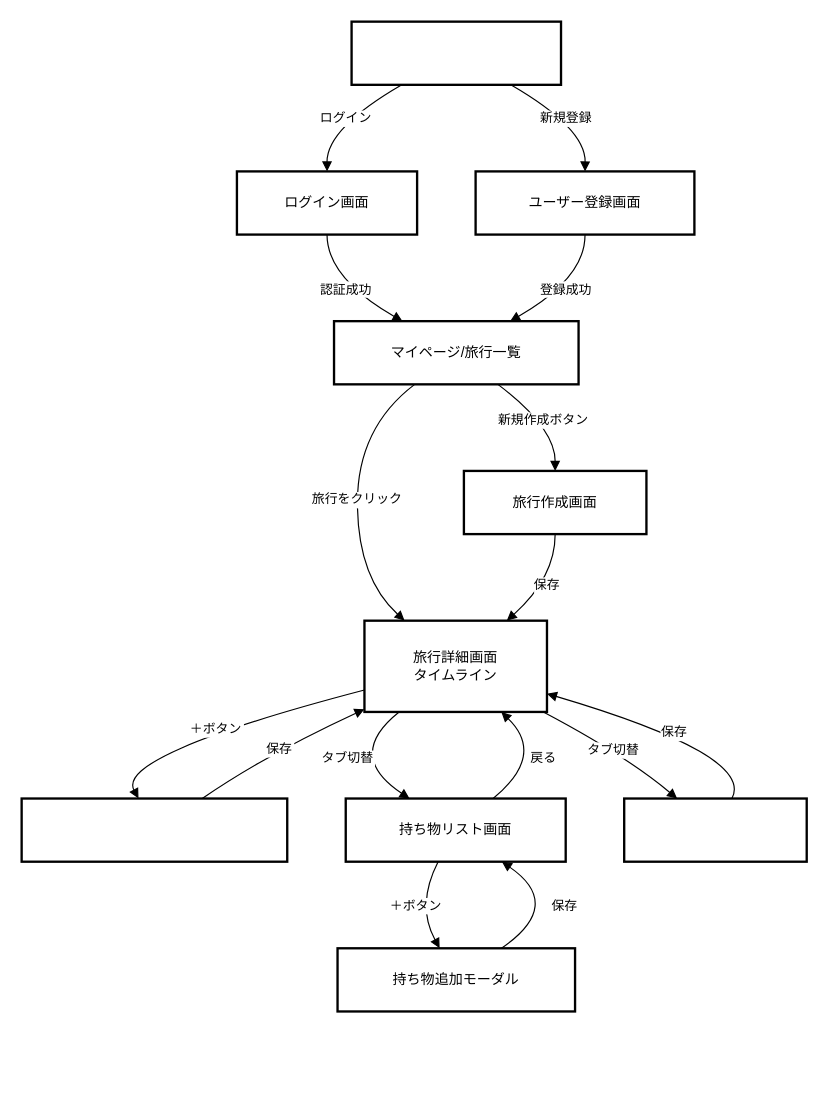
Image size: 827x1119. Some labels were removed from this diagram. The shapes that lost their labels are listed below. From the top down, each one's centre as x and y in pixels, then its label:
At pixel 456 52: "トップページ/LP".
At pixel 154 829: "活動追加/編集モーダル".
At pixel 714 829: "旅のメモ画面".
